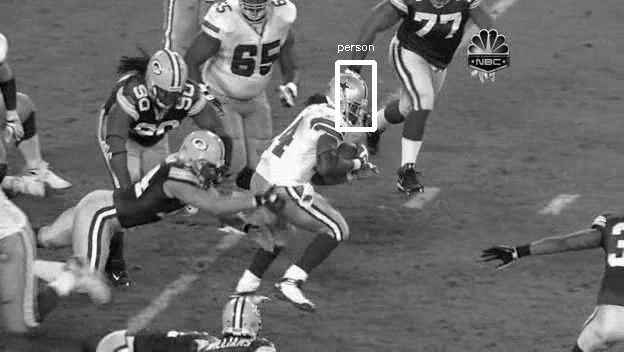person: (331, 77, 367, 123), (330, 77, 366, 123), (332, 77, 368, 123), (331, 76, 367, 122), (331, 78, 367, 124)
target_negative: (184, 165, 559, 257), (298, 155, 481, 275), (161, 338, 462, 344), (156, 249, 309, 254), (414, 37, 466, 43)
